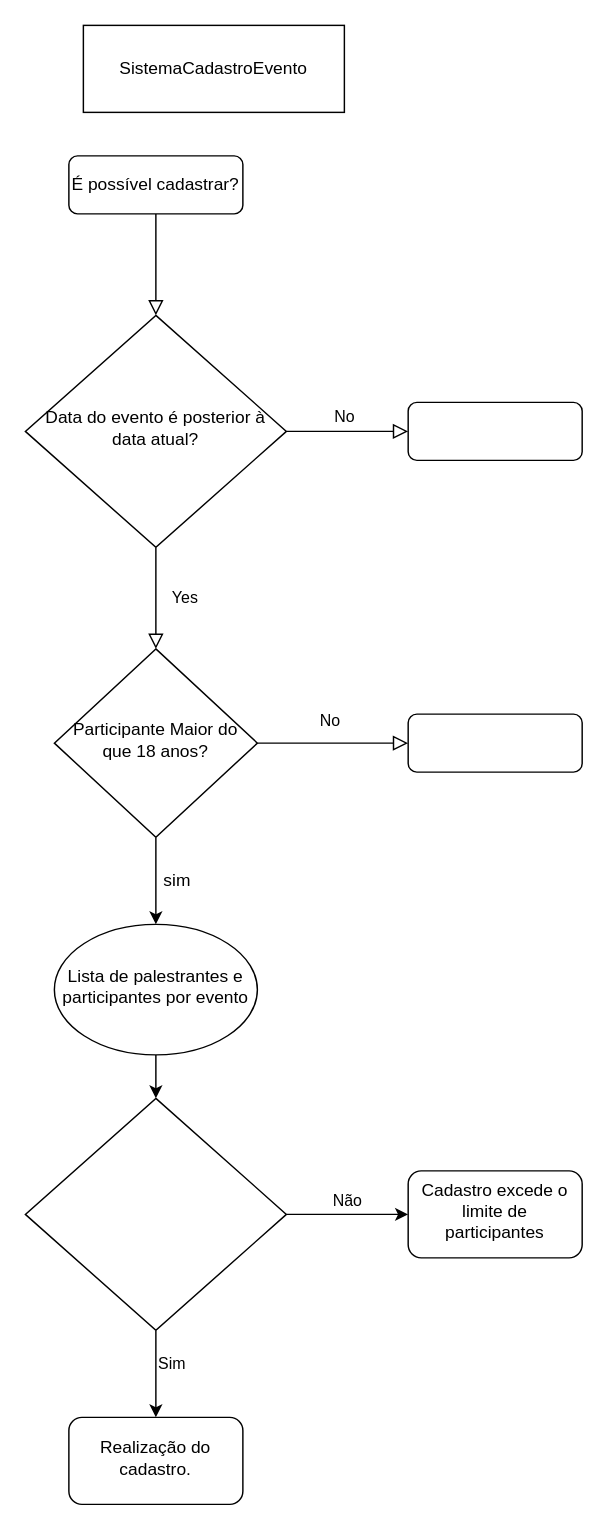
Image size: 608x1530. Some labels were removed from this diagram. Each missing label, with the box of its shape:
Cadastro invalido: (407, 401, 582, 460)
Cadastro Inválido: (407, 713, 582, 772)
Menos de 100 participantes cadastrados?: (24, 1097, 286, 1330)
